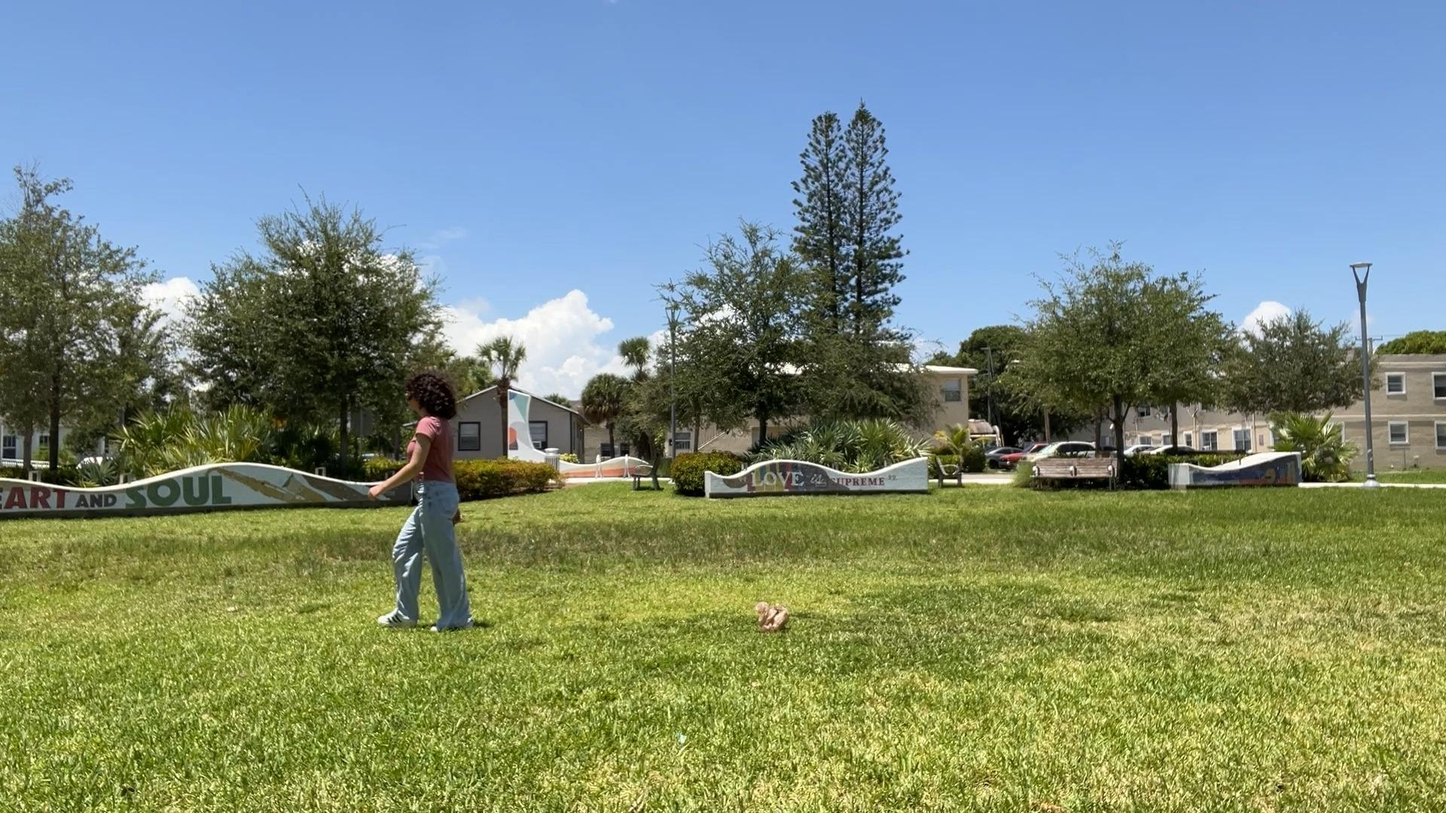Trash: (744, 595, 802, 640)
